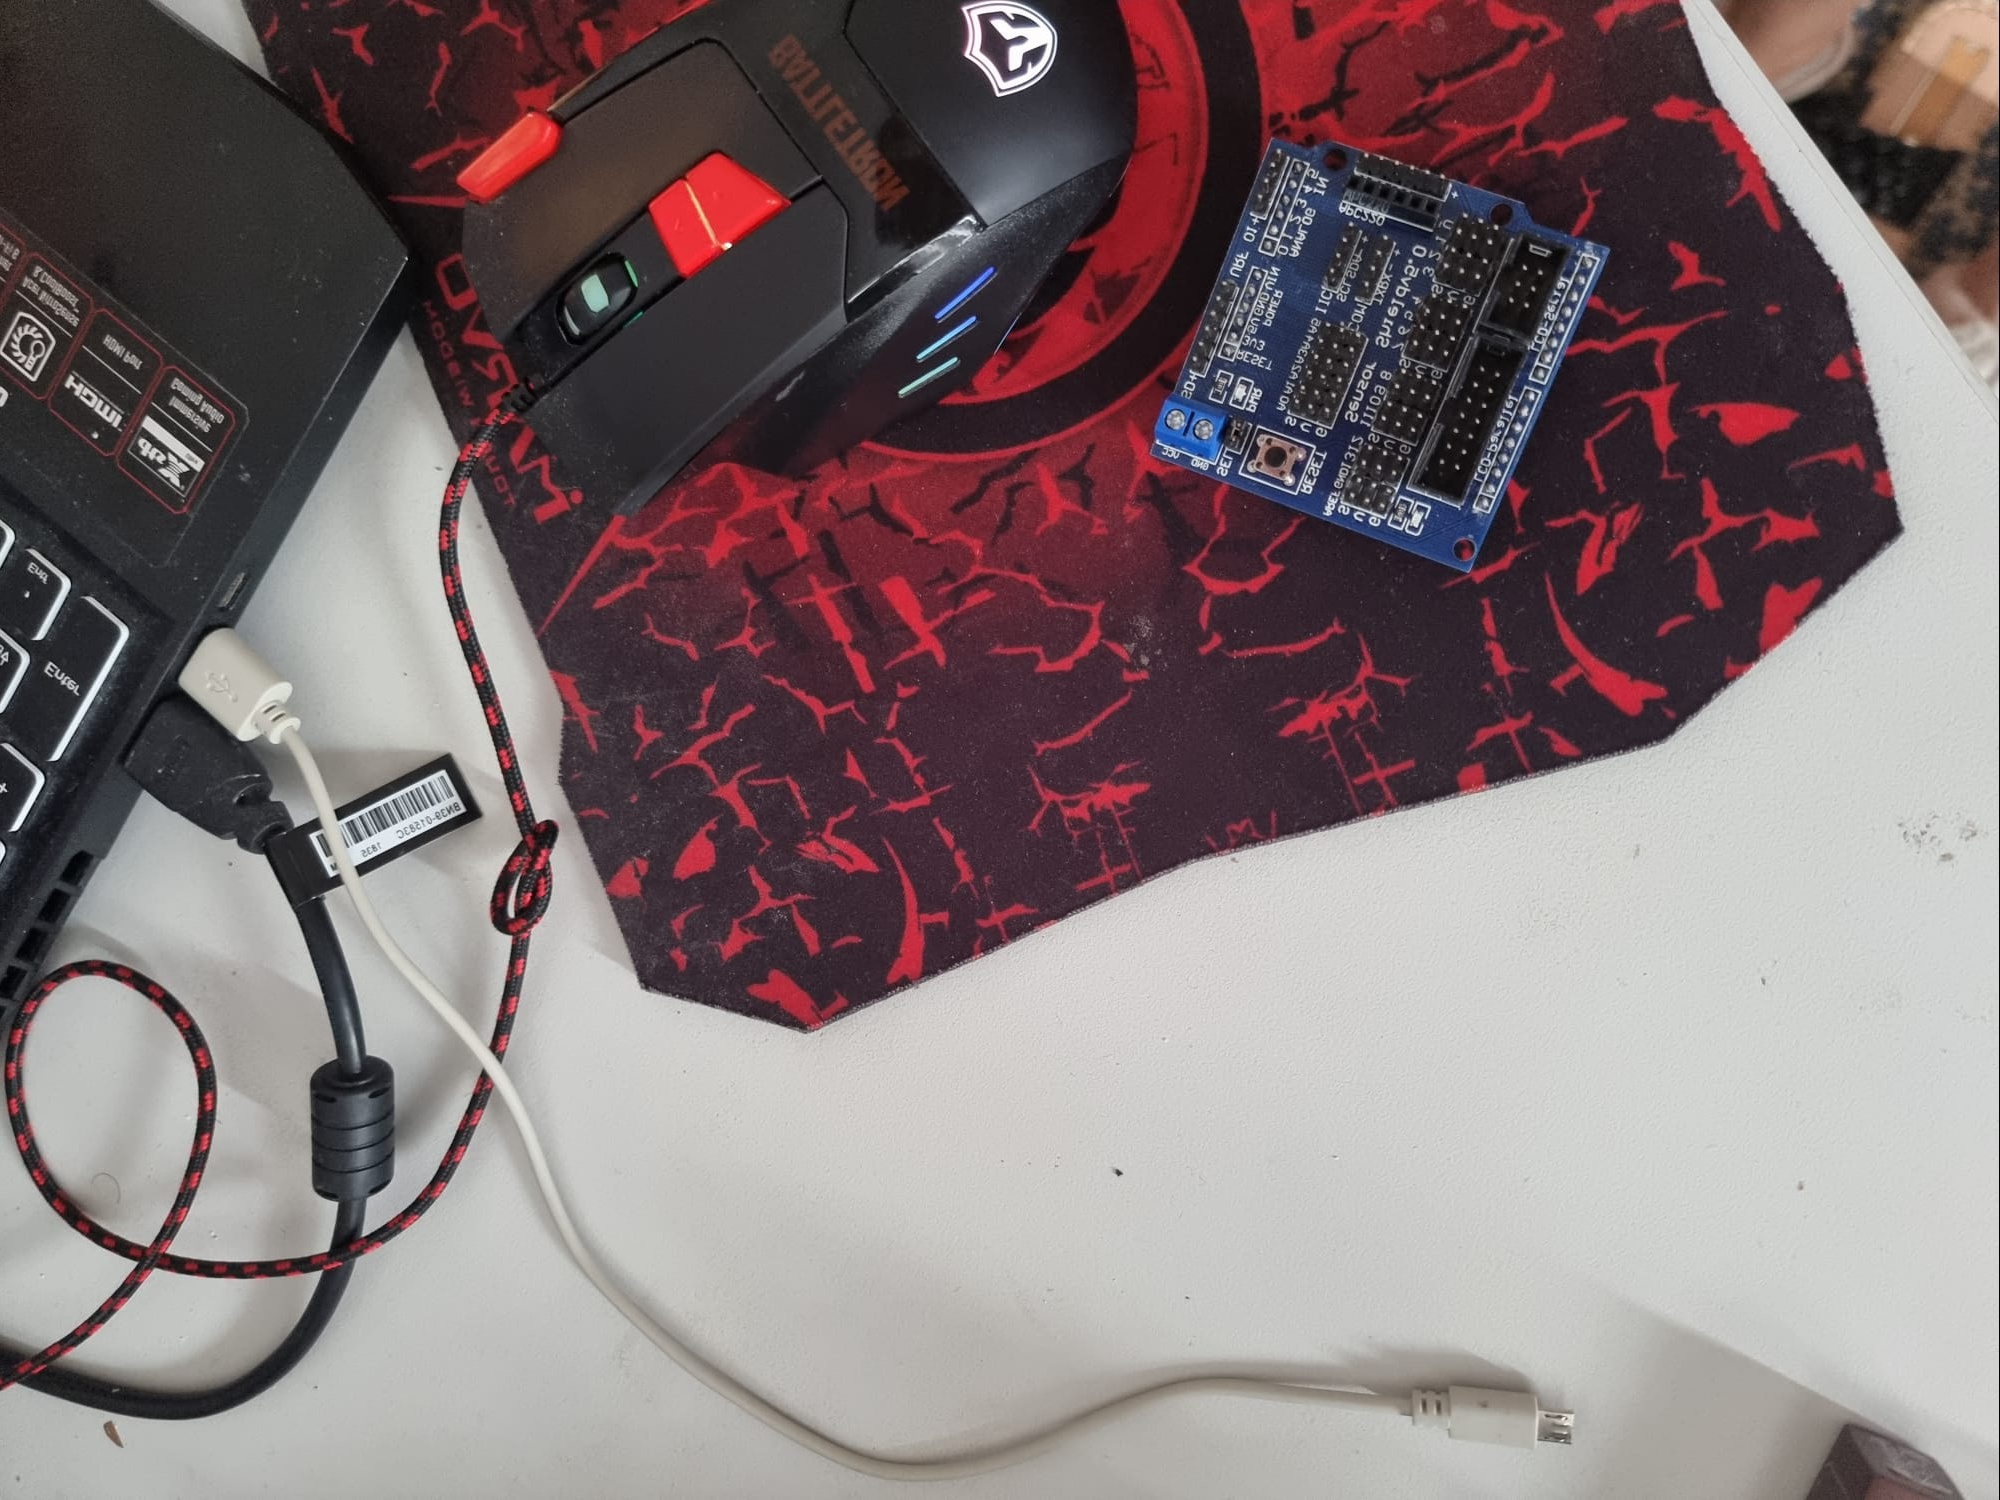5V EXPANSION: (1148, 98, 1620, 588)
